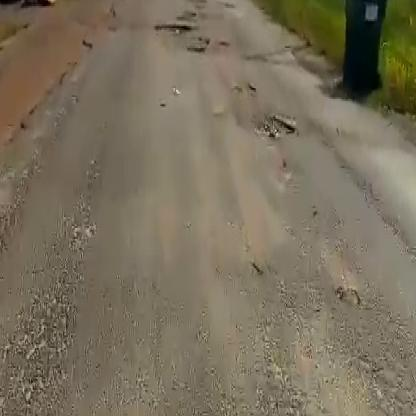pothole: (251, 113, 299, 141), (154, 18, 198, 34), (184, 44, 206, 55)
